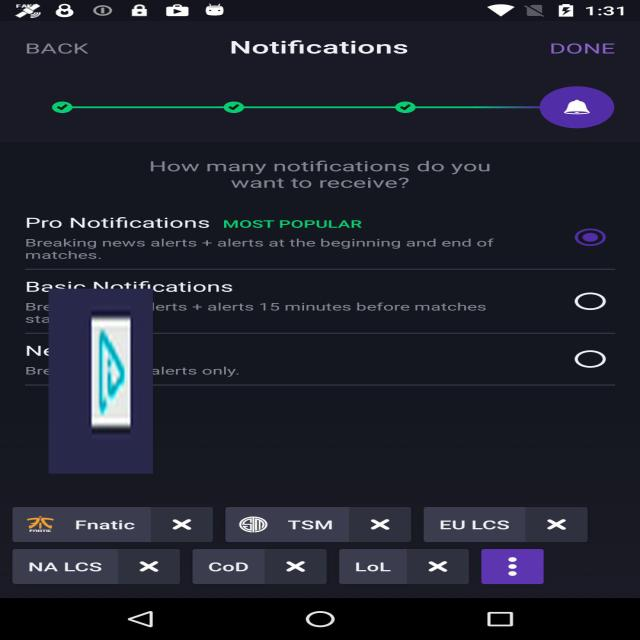sneaking: (48, 288, 153, 474)
